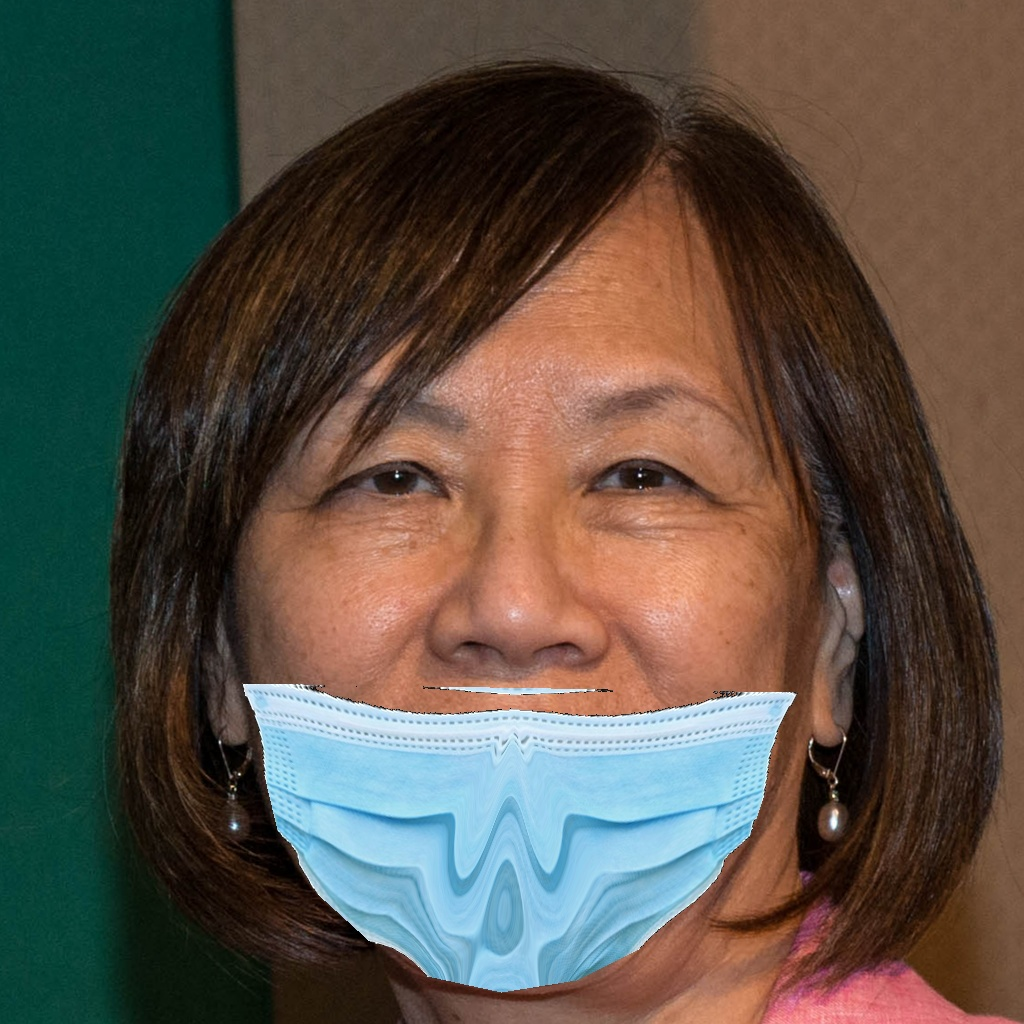mask_weared_incorrect: (207, 415, 841, 1011)
